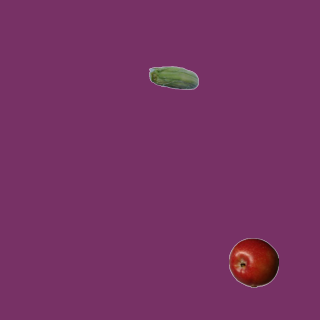Apple Braeburn: (228, 237, 278, 287)
Corn Husk: (148, 54, 198, 104)
